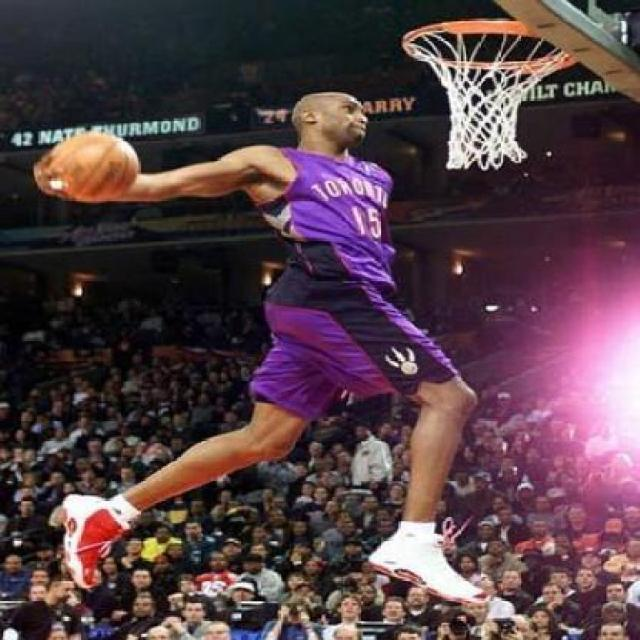basketball: (50, 131, 142, 205)
rim: (402, 19, 570, 172)
